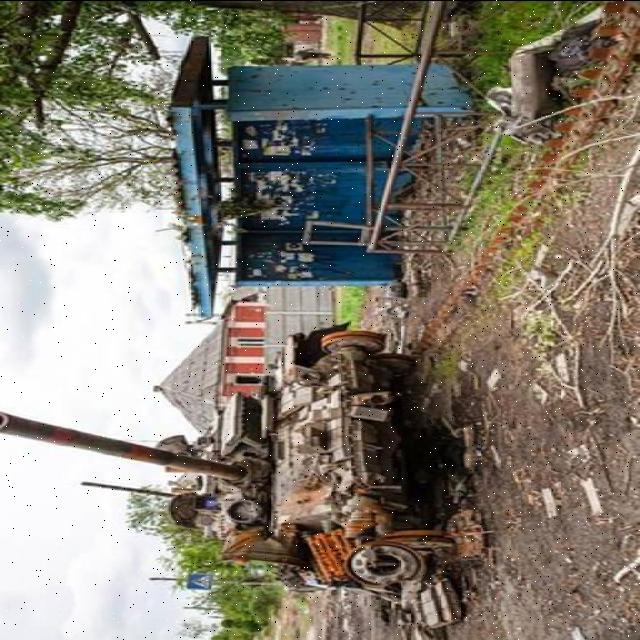TANK: (4, 321, 484, 595)
